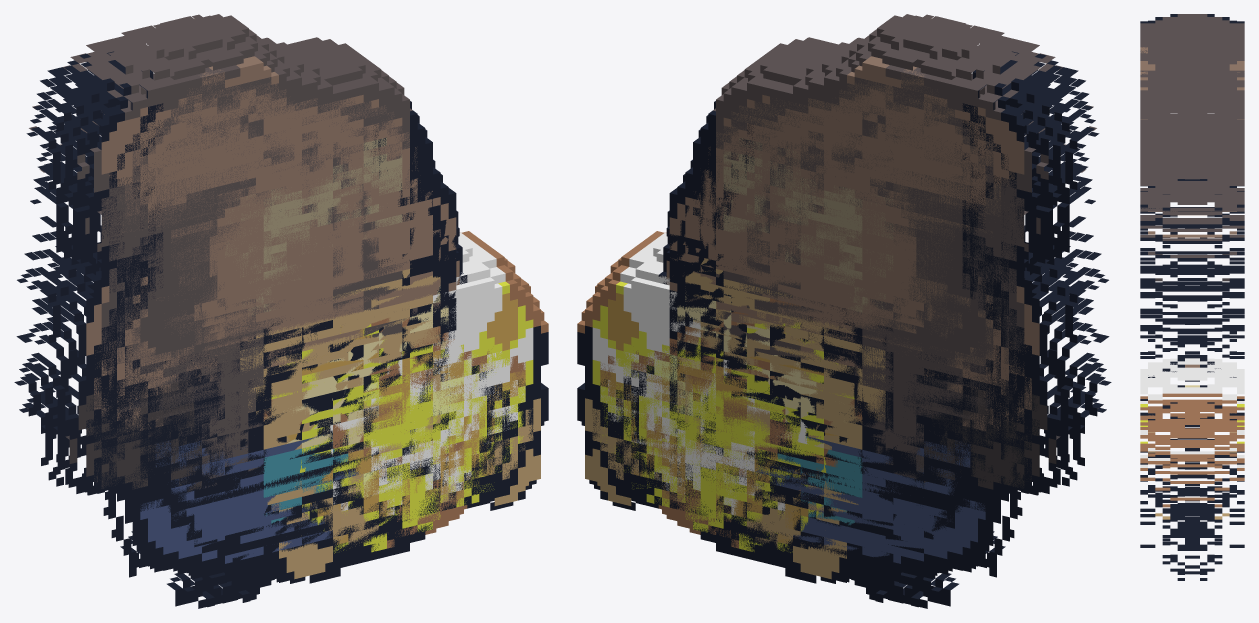
Rendered from carregando_ouro_correndo.glb.
3 views of the same model, side by side, from view 1: azimuth 30°, elevation 25°; view 2: azimuth 150°, elevation 25°; view 3: azimuth 270°, elevation 25° (orthographic). The views are drawn at different scales.
Parts seen in each view (by area): view 1: q0, q1, q4, q3, q2, q5; view 2: q0, q1, q4, q2, q3, q5; view 3: q1, q4, q0, q5, q3, q2.
Part boxes in pixels (x1,y1,x2,y2): q0: (46, 39, 502, 600); q1: (55, 14, 459, 530); q4: (14, 23, 548, 577); q3: (30, 54, 517, 608); q2: (40, 85, 467, 603); q5: (19, 100, 540, 597); q0: (623, 39, 1079, 600); q1: (666, 14, 1070, 537); q4: (577, 23, 1111, 577); q2: (658, 85, 1085, 603); q3: (608, 51, 1095, 608); q5: (585, 100, 1106, 598); q1: (1140, 37, 1244, 528); q4: (1140, 14, 1244, 544); q0: (1140, 54, 1244, 545); q5: (1140, 100, 1244, 580); q3: (1140, 56, 1244, 558); q2: (1140, 68, 1244, 531).
Size of the model in its own units: 65 by 71 by 14.
1 material, 1 textured.
